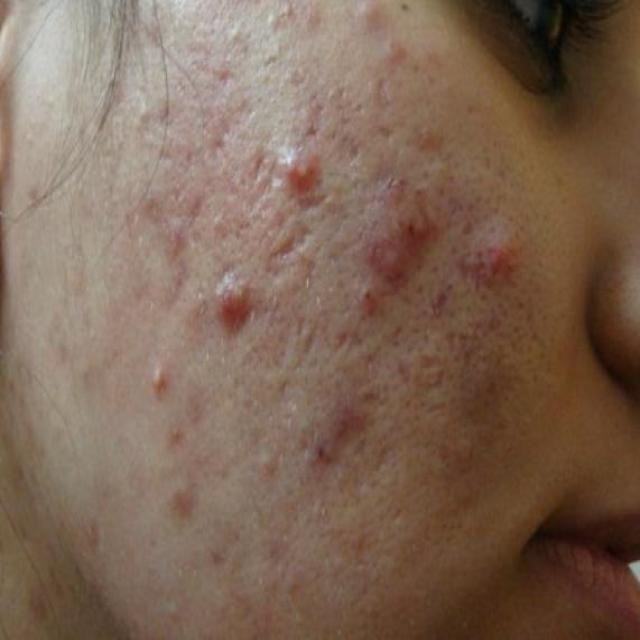papule: (206, 253, 264, 344), (462, 234, 529, 287), (388, 195, 443, 241), (364, 240, 412, 291), (160, 474, 202, 526)
pustule: (279, 142, 326, 203), (136, 355, 180, 405)
